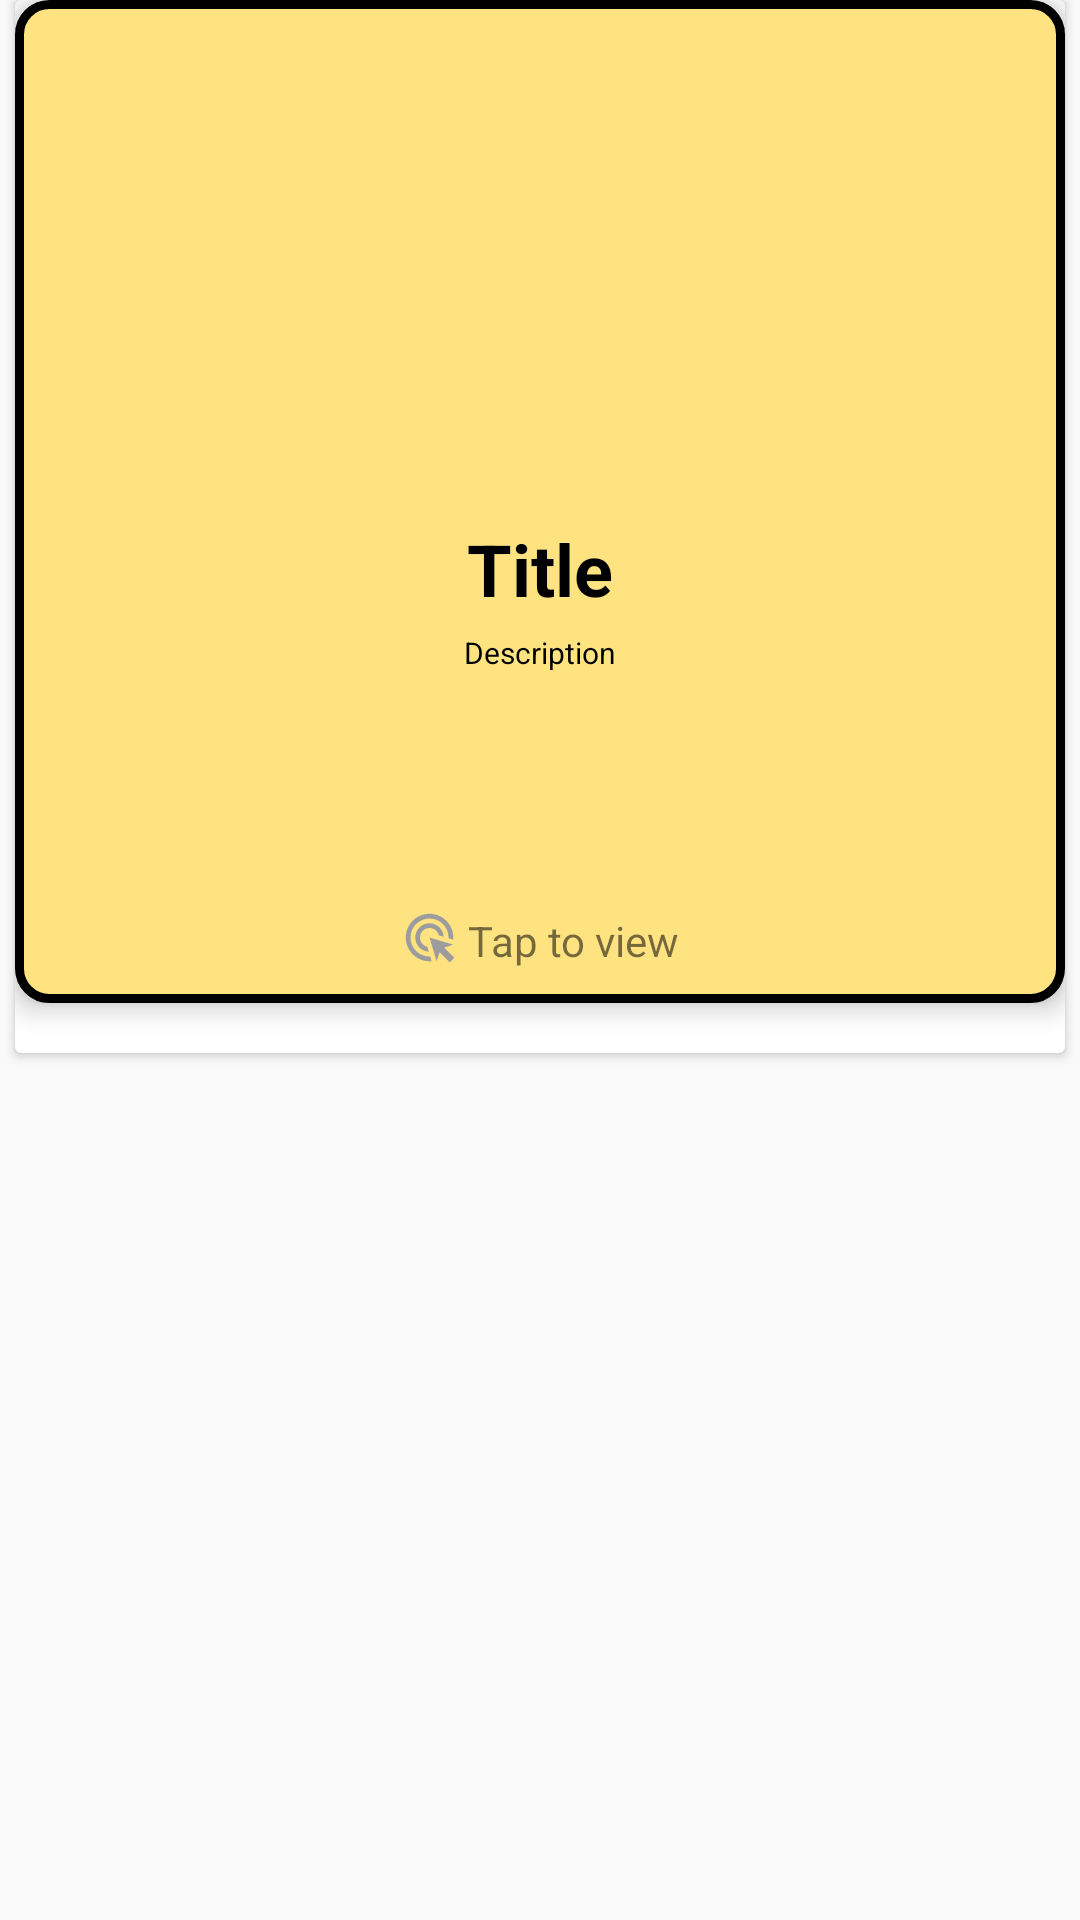

Named icons in this screenshot (1080x1920) and their bounding boxes, bbox=(x1, y1, x2, y2):
ads click: bbox=(405, 914, 454, 962)
